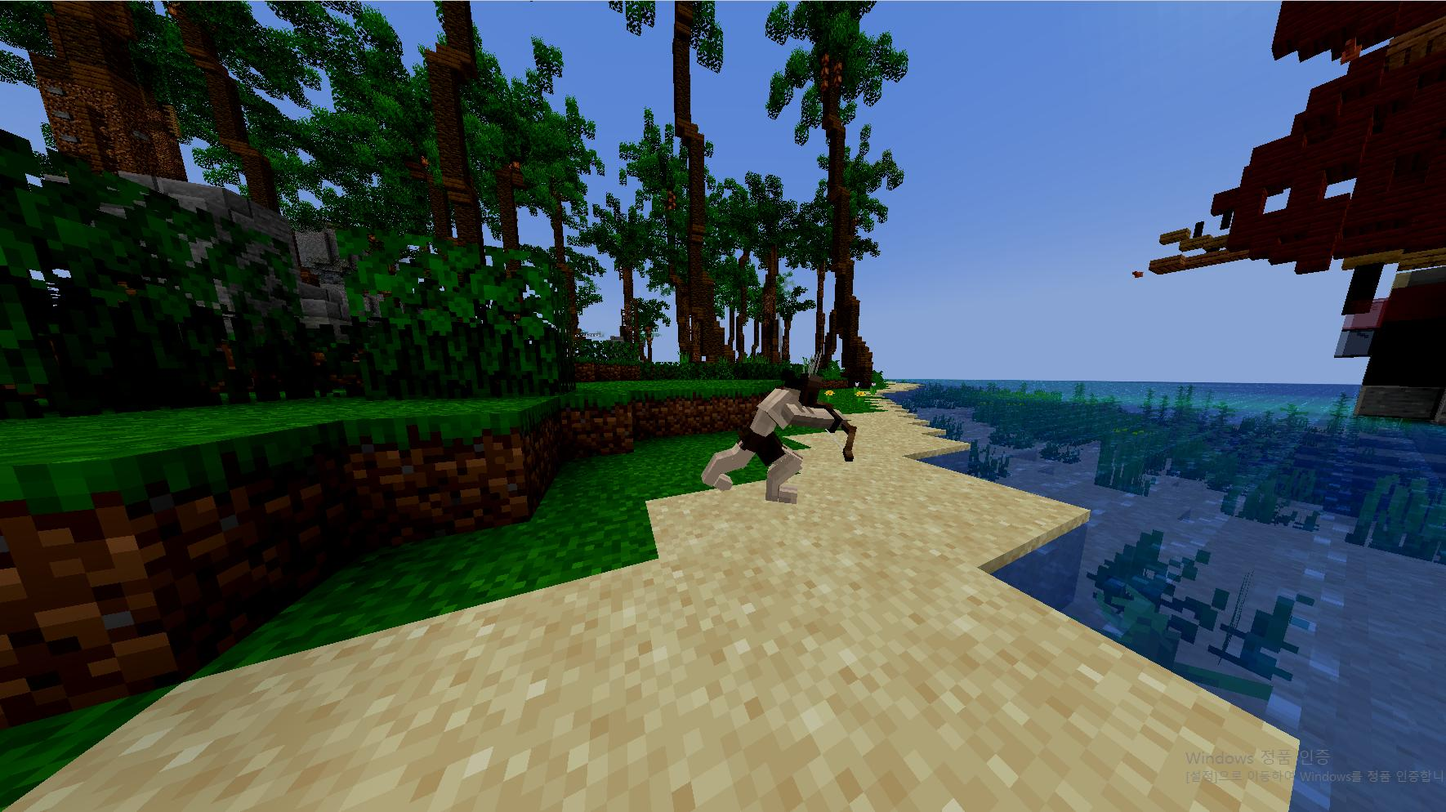bow_indian: (690, 340, 895, 533)
